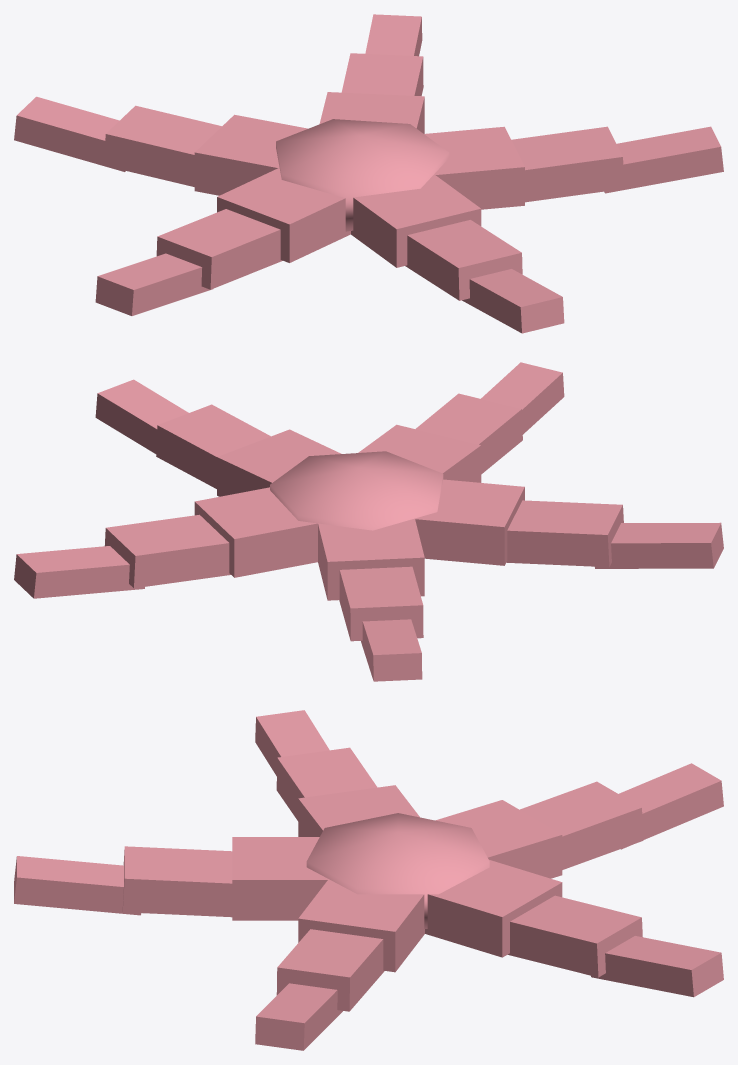
File: starfish.glb
The picture shows the model from 3 angles, top to bottom: view 1: azimuth 30°, elevation 25°; view 2: azimuth 150°, elevation 25°; view 3: azimuth 270°, elevation 25°; orthographic projection. The views are drawn at different scales.
Visible parts, largest first — view 1: starfish; view 2: starfish; view 3: starfish.
Boxes of the visible parts, x1=… form: starfish: x1=14, y1=14, x2=723, y2=333; starfish: x1=14, y1=362, x2=723, y2=681; starfish: x1=14, y1=710, x2=723, y2=1050.
Size of the model in its own units: 1.17 by 0.14 by 1.11.
